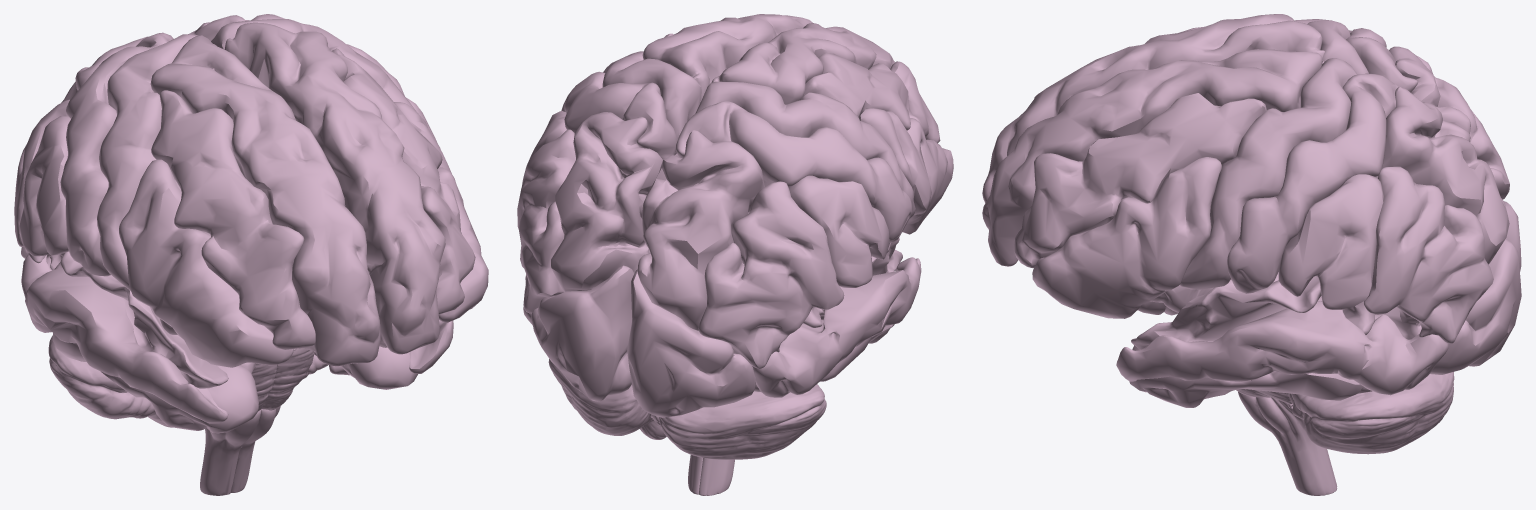
Rendered from brain.glb.
3 renders of one model, left to right at view 1: azimuth 30°, elevation 25°; view 2: azimuth 150°, elevation 25°; view 3: azimuth 270°, elevation 25°, orthographic. The views are drawn at different scales.
Visible parts, largest first — view 1: Brain FJ1834, Brain FJ1833, Brain FJ1788, Brain FJ1745, Brain FJ1790, Brain FJ1801, Brain FJ1798, Brain FJ1787, Brain FJ1842, Brain FJ1806, Brain FJ1747, Brain FJ1830 (+11 smaller); view 2: Brain FJ1733, Brain FJ1836, Brain FJ1835, Brain FJ1792, Brain FJ1798, Brain FJ1791, Brain FJ1790, Brain FJ1830, Brain FJ1834, Brain FJ1842, Brain FJ1732, Brain FJ1801 (+11 smaller); view 3: Brain FJ1833, Brain FJ1787, Brain FJ1789, Brain FJ1744, Brain FJ1732, Brain FJ1797, Brain FJ1800, Brain FJ1834, Brain FJ1841, Brain FJ1835, Brain FJ1781, Brain FJ1758 (+7 smaller).
Boxes of the visible parts, left/top/right/bottom form: Brain FJ1834: left=150, top=35, right=380, bottom=366; Brain FJ1833: left=224, top=22, right=445, bottom=354; Brain FJ1788: left=151, top=90, right=315, bottom=349; Brain FJ1745: left=119, top=159, right=293, bottom=367; Brain FJ1790: left=21, top=254, right=228, bottom=423; Brain FJ1801: left=97, top=34, right=198, bottom=290; Brain FJ1798: left=60, top=32, right=173, bottom=276; Brain FJ1787: left=332, top=48, right=475, bottom=314; Brain FJ1842: left=19, top=116, right=70, bottom=256; Brain FJ1806: left=50, top=251, right=315, bottom=388; Brain FJ1747: left=52, top=333, right=258, bottom=433; Brain FJ1830: left=48, top=335, right=172, bottom=427; Brain FJ1733: left=698, top=181, right=844, bottom=368; Brain FJ1836: left=637, top=130, right=764, bottom=330; Brain FJ1835: left=551, top=112, right=662, bottom=292; Brain FJ1792: left=627, top=269, right=755, bottom=417; Brain FJ1798: left=676, top=101, right=912, bottom=242; Brain FJ1791: left=531, top=265, right=634, bottom=401; Brain FJ1790: left=752, top=257, right=921, bottom=397; Brain FJ1830: left=659, top=384, right=826, bottom=459; Brain FJ1834: left=711, top=23, right=895, bottom=104; Brain FJ1842: left=789, top=175, right=889, bottom=287; Brain FJ1732: left=517, top=129, right=575, bottom=313; Brain FJ1801: left=695, top=81, right=915, bottom=219; Brain FJ1833: left=982, top=49, right=1323, bottom=266; Brain FJ1787: left=1014, top=93, right=1266, bottom=267; Brain FJ1789: left=1116, top=301, right=1448, bottom=395; Brain FJ1744: left=1032, top=157, right=1221, bottom=318; Brain FJ1732: left=1364, top=166, right=1493, bottom=343; Brain FJ1797: left=1227, top=73, right=1398, bottom=293; Brain FJ1800: left=1180, top=58, right=1357, bottom=289; Brain FJ1834: left=982, top=14, right=1324, bottom=202; Brain FJ1841: left=1278, top=174, right=1384, bottom=309; Brain FJ1835: left=1375, top=87, right=1509, bottom=264; Brain FJ1781: left=1289, top=372, right=1454, bottom=454; Brain FJ1758: left=1131, top=272, right=1421, bottom=349.
Bounding box in the file's own units: 0.1388 × 0.166 × 0.18.
